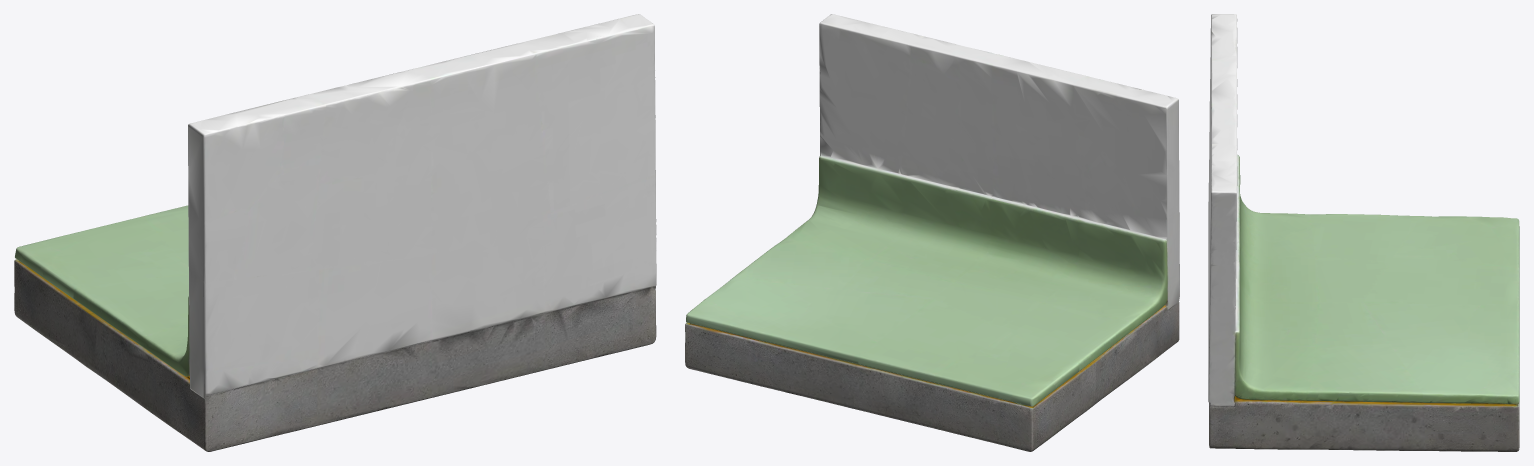
The model's file is hospital-floor.glb.
3 renders of one model, left to right at view 1: azimuth 30°, elevation 25°; view 2: azimuth 150°, elevation 25°; view 3: azimuth 270°, elevation 25°, orthographic. The views are drawn at different scales.
Visible parts, largest first — view 1: tripo_node_fba4b2d6-a7a9-4630-b222-0a6084f1a95a; view 2: tripo_node_fba4b2d6-a7a9-4630-b222-0a6084f1a95a; view 3: tripo_node_fba4b2d6-a7a9-4630-b222-0a6084f1a95a.
Part boxes in pixels (left/top/right/bottom): tripo_node_fba4b2d6-a7a9-4630-b222-0a6084f1a95a: left=14, top=14, right=656, bottom=451; tripo_node_fba4b2d6-a7a9-4630-b222-0a6084f1a95a: left=685, top=14, right=1179, bottom=451; tripo_node_fba4b2d6-a7a9-4630-b222-0a6084f1a95a: left=1208, top=14, right=1519, bottom=451.
Size of the model in its own units: 0.9999 by 0.6809 by 0.7352.
Materials: 1 (1 with a texture image).
